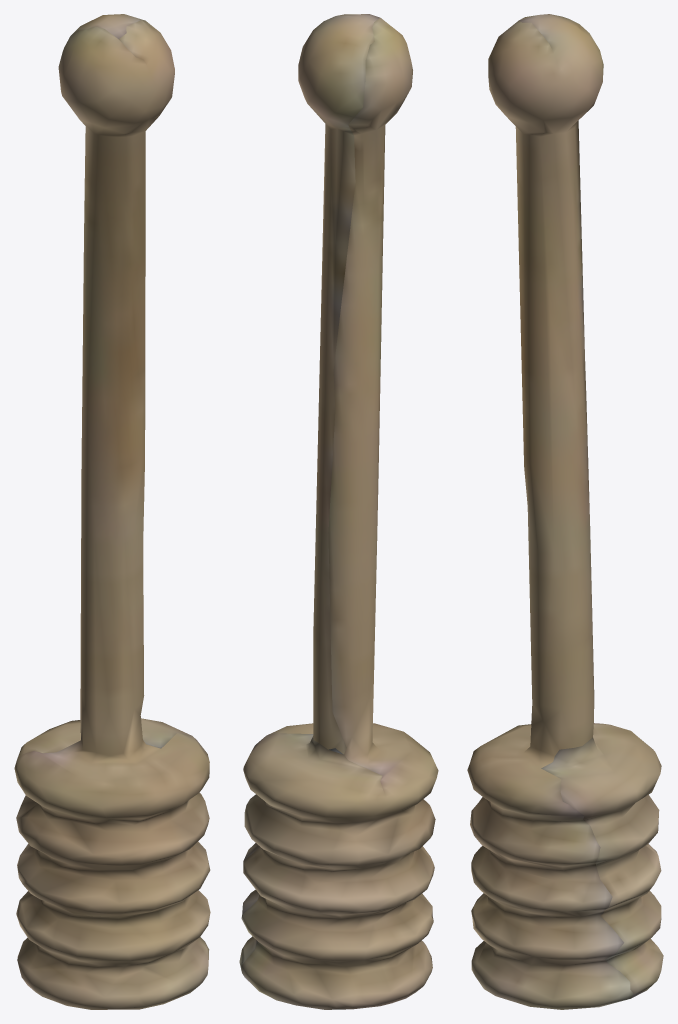
The model's file is Cole_Hardware_Mini_Honey_Dipper-medium.glb.
3 renders of one model, left to right at view 1: azimuth 30°, elevation 25°; view 2: azimuth 150°, elevation 25°; view 3: azimuth 270°, elevation 25°, orthographic.
Visible parts, largest first — view 1: Cole_Hardware_Mini_Honey_Dipper; view 2: Cole_Hardware_Mini_Honey_Dipper; view 3: Cole_Hardware_Mini_Honey_Dipper.
Part boxes in pixels (<box>): Cole_Hardware_Mini_Honey_Dipper: <box>14,14,210,1009</box>; Cole_Hardware_Mini_Honey_Dipper: <box>239,14,438,1009</box>; Cole_Hardware_Mini_Honey_Dipper: <box>467,14,663,1009</box>.
Bounding box in the file's own units: 0.0207 × 0.1104 × 0.0206.
1 material, 1 textured.
